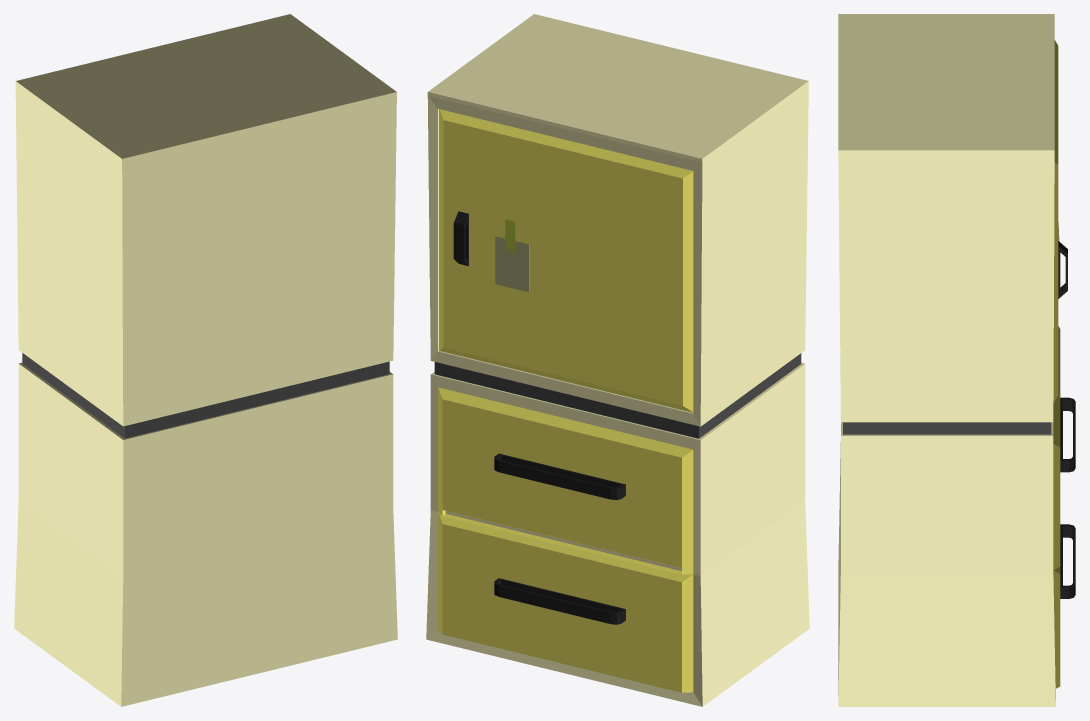
Rendered from Refrigerator 1.fbx.
3 renders of one model, left to right at view 1: azimuth 30°, elevation 25°; view 2: azimuth 150°, elevation 25°; view 3: azimuth 270°, elevation 25°, orthographic.
Visible parts, largest first — view 1: Node 0; view 2: Node 0, Node 1, Node 2, Node 3; view 3: Node 0, Node 1, Node 2, Node 3.
Boxes of the visible parts, x1=… form: Node 0: x1=14, y1=14, x2=397, y2=706; Node 0: x1=426, y1=14, x2=809, y2=706; Node 1: x1=439, y1=109, x2=693, y2=412; Node 2: x1=438, y1=387, x2=693, y2=568; Node 3: x1=438, y1=512, x2=693, y2=692; Node 0: x1=838, y1=14, x2=1060, y2=706; Node 1: x1=1053, y1=40, x2=1067, y2=403; Node 2: x1=1053, y1=326, x2=1075, y2=563; Node 3: x1=1053, y1=524, x2=1075, y2=688.
Bounding box in the file's own units: 0.9684 × 2.5 × 1.32.
